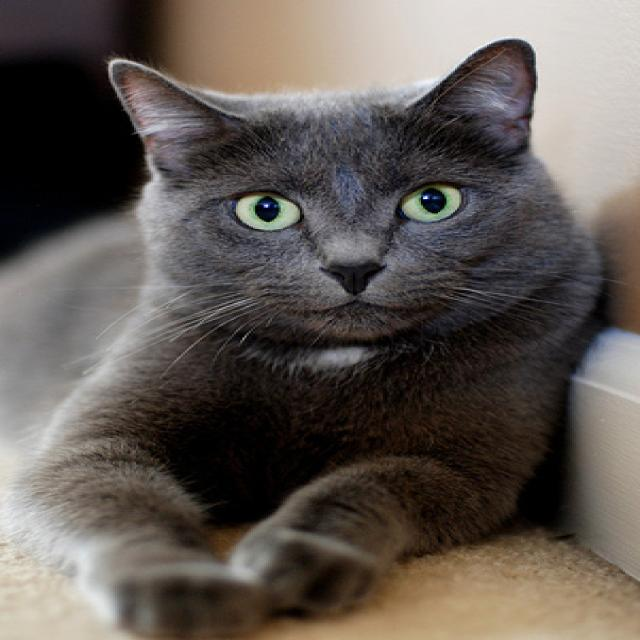Russian Blue: (0, 34, 612, 640)
